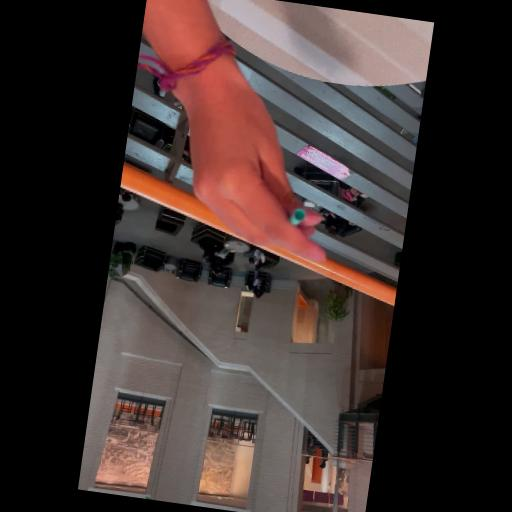straw: (272, 186, 324, 240)
